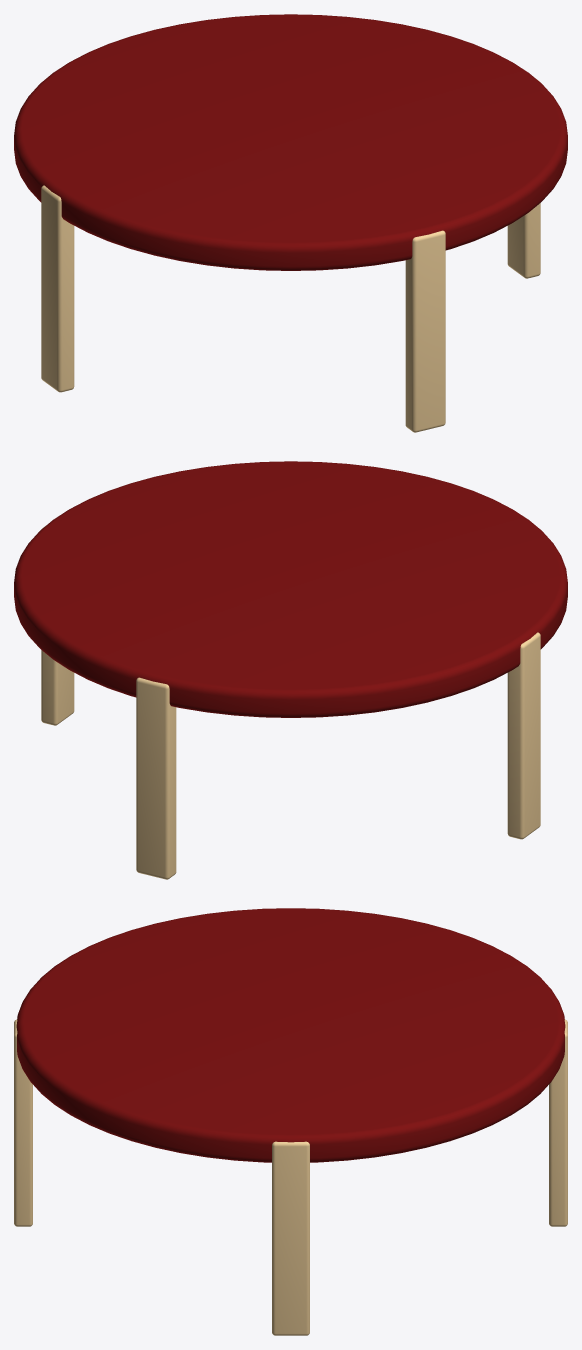
The model's file is playtable.FBX.
3 renders of one model, top to bottom at view 1: azimuth 30°, elevation 25°; view 2: azimuth 150°, elevation 25°; view 3: azimuth 270°, elevation 25°, orthographic.
Parts seen in each view (by area): view 1: playtable; view 2: playtable; view 3: playtable.
Part boxes in pixels (<box>): playtable: <box>14,14,567,432</box>; playtable: <box>14,461,567,879</box>; playtable: <box>14,908,567,1335</box>.
Bounding box in the file's own units: 47.74 × 18.85 × 47.74.
